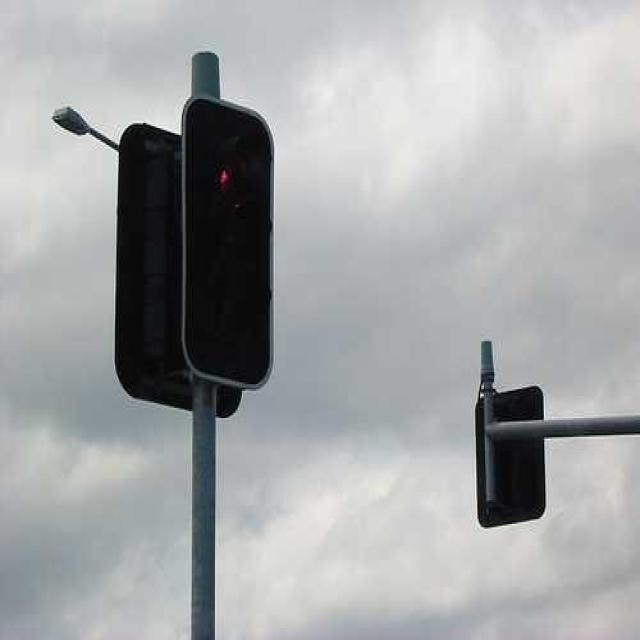Traffic Light -Red-: (176, 88, 276, 394)
